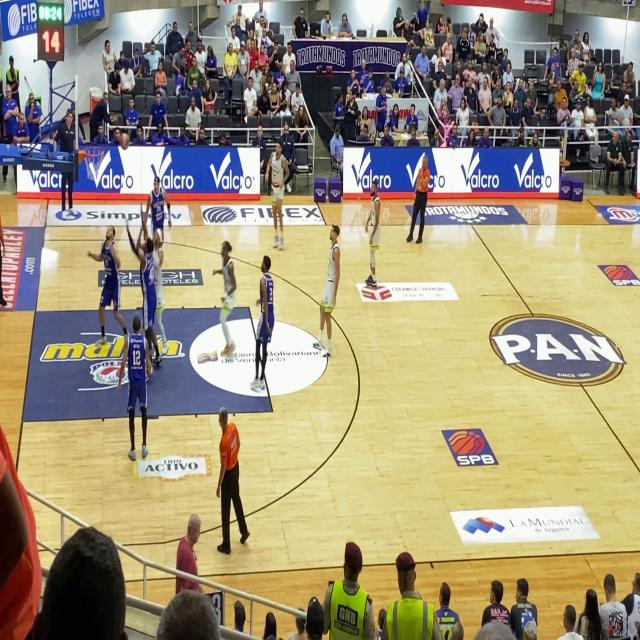Ball: (120, 127, 130, 152)
referee: (207, 401, 263, 554), (404, 152, 436, 255)
team1: (306, 215, 349, 367), (206, 231, 242, 362), (358, 180, 391, 304), (265, 132, 292, 252)
team2: (88, 224, 125, 358), (125, 317, 156, 459), (251, 249, 281, 394), (130, 224, 160, 327), (141, 163, 173, 242)
ubasket: (81, 146, 105, 180)
